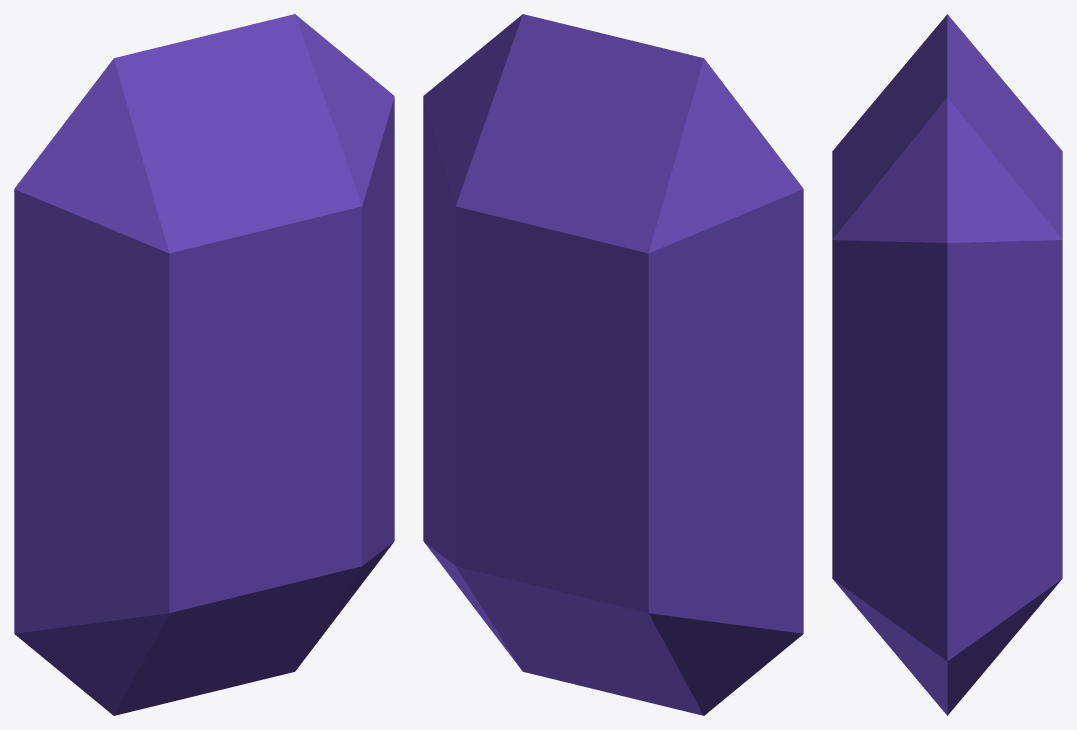
File: Gem_5-1.fbx
The picture shows the model from 3 angles, left to right: view 1: azimuth 30°, elevation 25°; view 2: azimuth 150°, elevation 25°; view 3: azimuth 270°, elevation 25°; orthographic projection. The views are drawn at different scales.
Visible parts, largest first — view 1: Gem_5-1; view 2: Gem_5-1; view 3: Gem_5-1.
Part boxes in pixels (left/top/right/bottom): Gem_5-1: left=14, top=14, right=394, bottom=715; Gem_5-1: left=423, top=14, right=803, bottom=715; Gem_5-1: left=832, top=14, right=1062, bottom=715.
Size of the model in its own units: 45.8 by 75.64 by 25.54.
